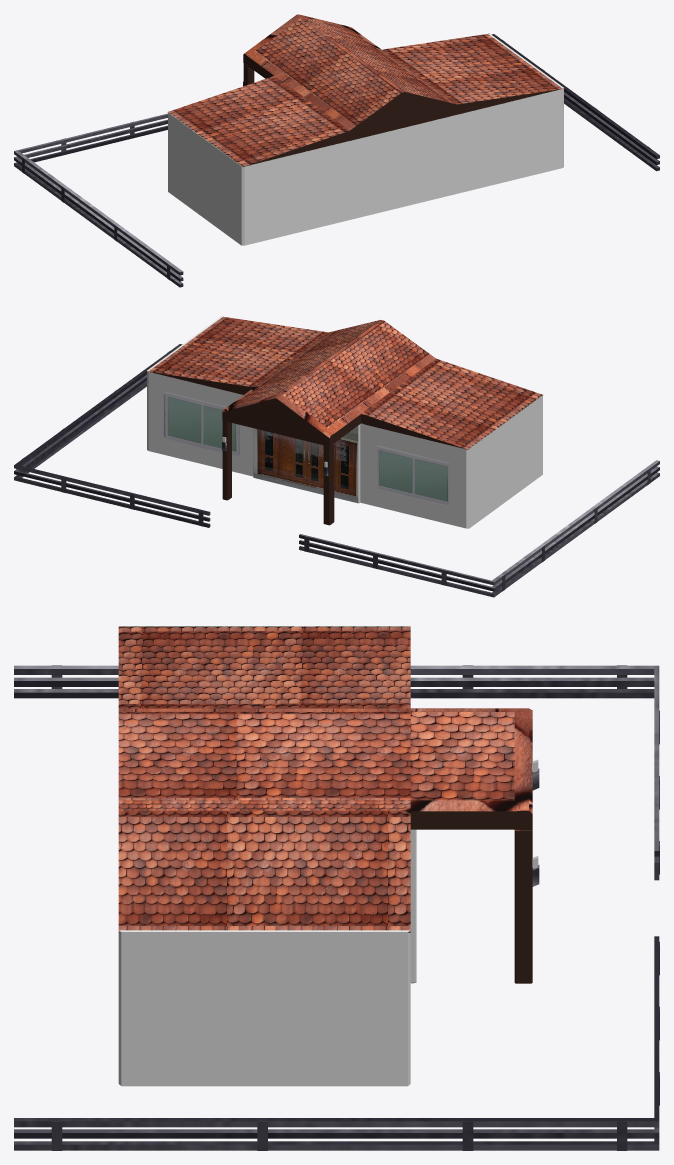
Rendered from Home2.fbx.
3 renders of one model, top to bottom at view 1: azimuth 30°, elevation 25°; view 2: azimuth 150°, elevation 25°; view 3: azimuth 270°, elevation 25°, orthographic. The views are drawn at different scales.
Parts seen in each view (by area): view 1: Cube, Cube.001, ลูกบาศก์.001, ลูกบาศก์.009; view 2: Cube.001, Cube, ลูกบาศก์.001, ลูกบาศก์.009; view 3: Cube.001, Cube, ลูกบาศก์.009, ลูกบาศก์.001.
Part boxes in pixels (x1=…): Cube: x1=168, y1=34, x2=563, y2=245; Cube.001: x1=167, y1=14, x2=564, y2=166; ลูกบาศก์.001: x1=14, y1=113, x2=183, y2=287; ลูกบาศก์.009: x1=491, y1=34, x2=659, y2=171; Cube.001: x1=146, y1=316, x2=543, y2=525; Cube: x1=147, y1=316, x2=542, y2=528; ลูกบาศก์.001: x1=299, y1=460, x2=659, y2=597; ลูกบาศก์.009: x1=14, y1=344, x2=210, y2=527; Cube.001: x1=118, y1=626, x2=532, y2=983; Cube: x1=118, y1=626, x2=416, y2=1086; ลูกบาศก์.009: x1=14, y1=936, x2=659, y2=1150; ลูกบาศก์.001: x1=14, y1=665, x2=659, y2=880.
Size of the model in its own units: 2101 by 479 by 1257.
Materials: 8 (6 with a texture image).
